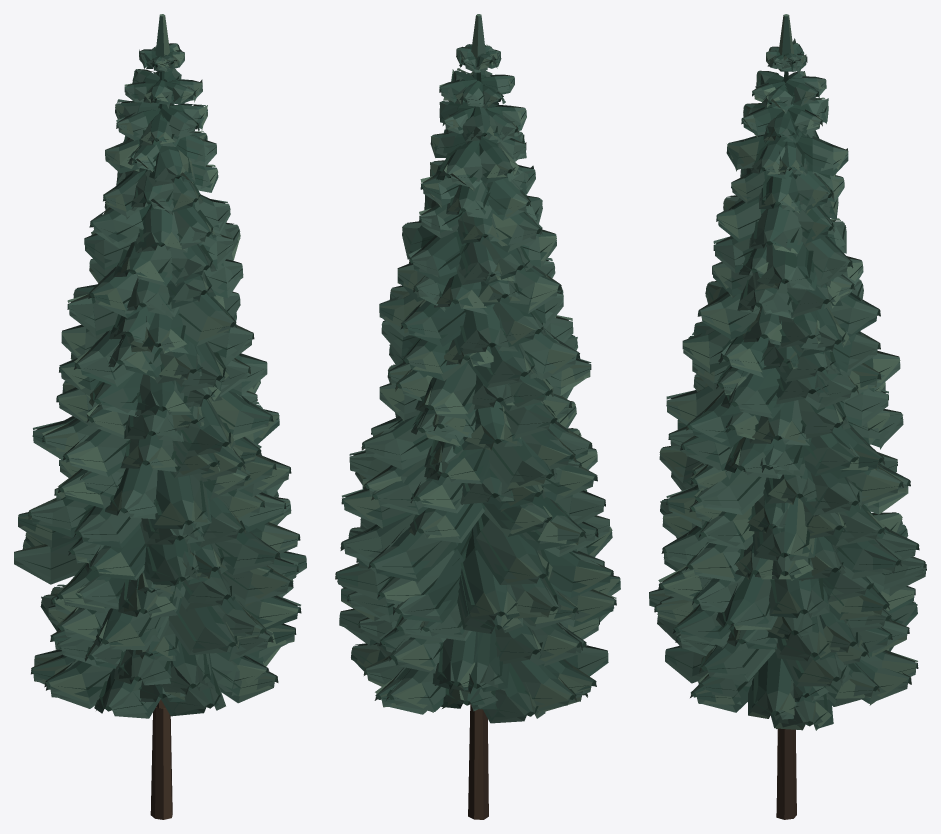
File: pine-tall.glb
The picture shows the model from 3 angles, left to right: view 1: azimuth 30°, elevation 25°; view 2: azimuth 150°, elevation 25°; view 3: azimuth 270°, elevation 25°; orthographic projection.
Visible parts, largest first — view 1: pine-tall-needles, pine-tall; view 2: pine-tall-needles, pine-tall; view 3: pine-tall-needles, pine-tall.
Boxes of the visible parts, bbox=[...] form: pine-tall-needles: bbox=[14, 43, 306, 718]; pine-tall: bbox=[150, 14, 172, 819]; pine-tall-needles: bbox=[335, 44, 620, 723]; pine-tall: bbox=[468, 14, 488, 819]; pine-tall-needles: bbox=[649, 38, 926, 730]; pine-tall: bbox=[776, 14, 796, 819].
Bounding box in the file's own units: 4.68 × 14.5 × 4.56.
